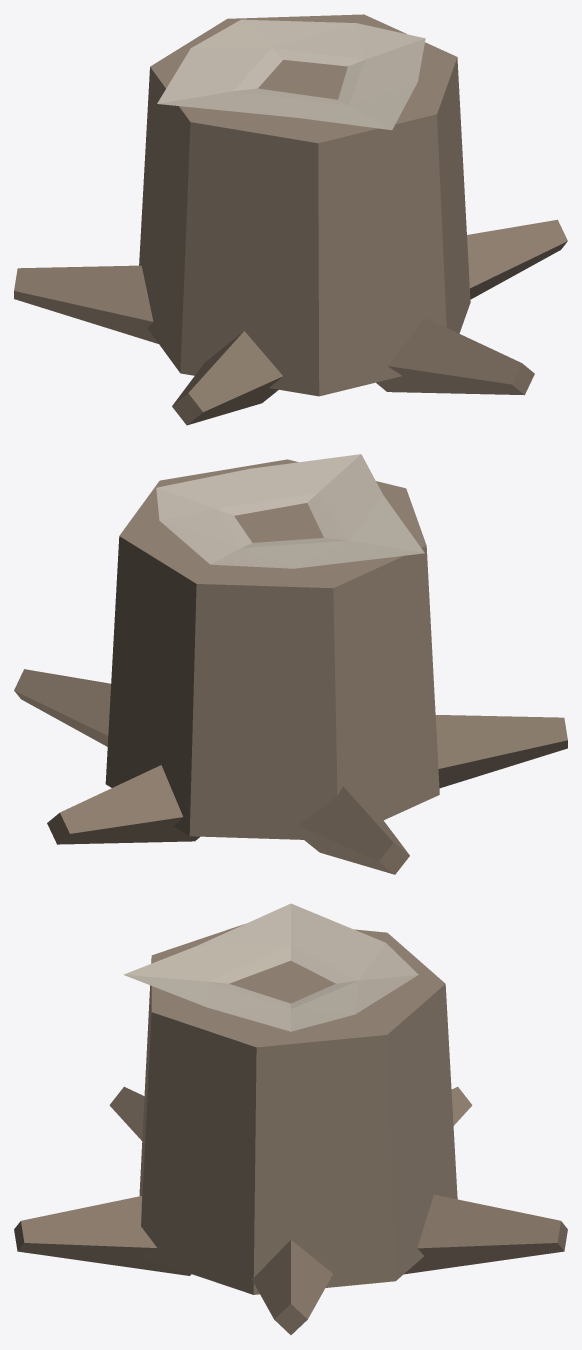
Rendered from stump_v14.glb.
3 views of the same model, one above another, from view 1: azimuth 30°, elevation 25°; view 2: azimuth 150°, elevation 25°; view 3: azimuth 270°, elevation 25° (orthographic). The views are drawn at different scales.
Parts seen in each view (by area): view 1: lod0; view 2: lod0; view 3: lod0.
Part boxes in pixels (x1=…): lod0: x1=14, y1=14, x2=567, y2=425; lod0: x1=14, y1=454, x2=567, y2=874; lod0: x1=14, y1=903, x2=567, y2=1334.
Size of what is drawn, in the model's own units: 1.07 by 0.6685 by 1.12.
